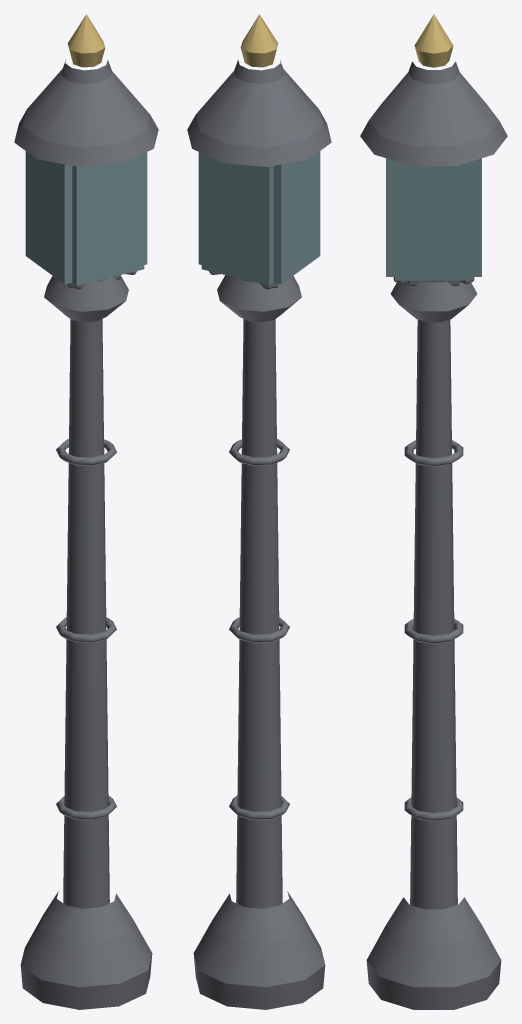
File: simplified.glb
The picture shows the model from 3 angles, left to right: view 1: azimuth 30°, elevation 25°; view 2: azimuth 150°, elevation 25°; view 3: azimuth 270°, elevation 25°; orthographic projection.
Visible parts, largest first — view 1: town-street-lamp; view 2: town-street-lamp; view 3: town-street-lamp.
Part boxes in pixels (left/top/right/bottom): town-street-lamp: left=14, top=14, right=158, bottom=1009; town-street-lamp: left=187, top=14, right=331, bottom=1009; town-street-lamp: left=360, top=14, right=507, bottom=1009.
Bounding box in the file's own units: 0.6467 × 4.92 × 0.6799.
